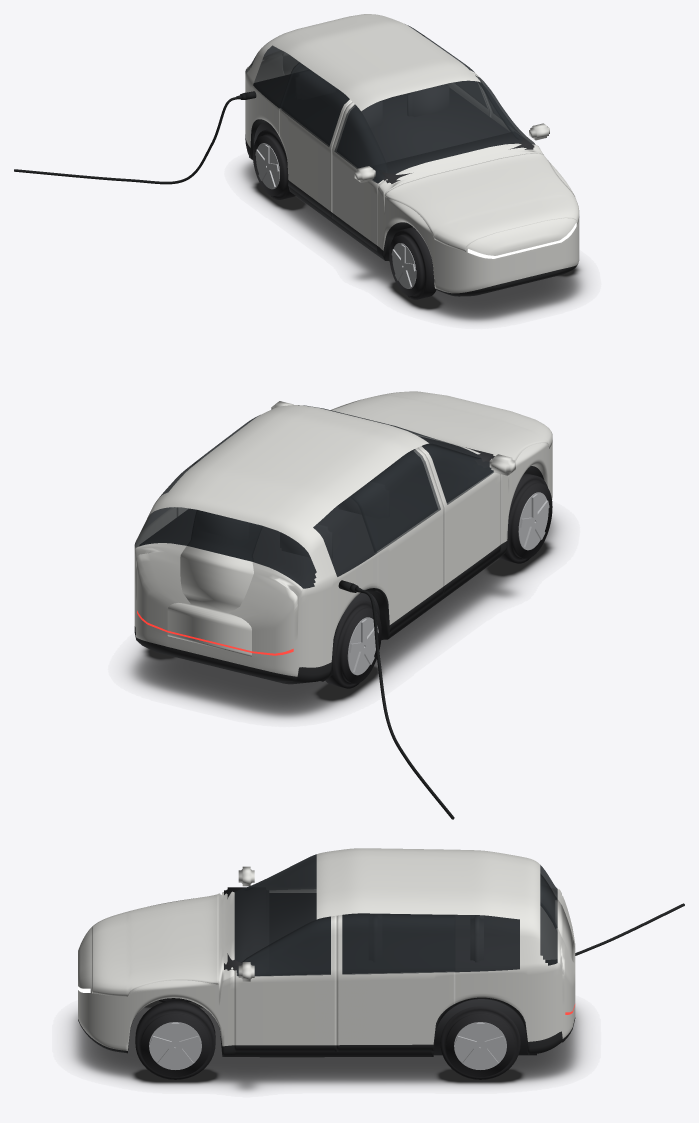
The model's file is car_crossover.glb.
3 views of the same model, one above another, from view 1: azimuth 30°, elevation 25°; view 2: azimuth 150°, elevation 25°; view 3: azimuth 270°, elevation 25° (orthographic). The views are drawn at different scales.
Parts seen in each view (by area): view 1: body, hood, ground_shadow, interior, door_rr, door_fr, wheels, charge_cable, door_rl, door_fl; view 2: body, ground_shadow, door_rr, tailgate, hood, door_fr, interior, wheels, charge_cable; view 3: body, door_rl, ground_shadow, door_fl, hood, wheels, interior, door_fr, tailgate, charge_cable.
Boxes of the visible parts, <box> form: body: <box>245,14,579,296</box>; hood: <box>385,153,579,251</box>; ground_shadow: <box>239,160,585,322</box>; interior: <box>249,74,534,183</box>; door_rr: <box>279,62,352,217</box>; door_fr: <box>331,102,387,251</box>; wheels: <box>253,129,436,299</box>; charge_cable: <box>14,91,256,184</box>; door_rl: <box>419,33,490,116</box>; door_fl: <box>473,73,535,144</box>; body: <box>134,401,552,684</box>; ground_shadow: <box>127,514,560,718</box>; door_rr: <box>350,447,444,632</box>; tailgate: <box>167,510,262,656</box>; hood: <box>330,391,552,461</box>; door_fr: <box>418,443,500,592</box>; interior: <box>139,436,494,681</box>; wheels: <box>325,473,552,688</box>; charge_cable: <box>338,580,454,819</box>; body: <box>78,848,575,1057</box>; door_rl: <box>336,913,455,1051</box>; ground_shadow: <box>69,1000,583,1091</box>; door_fl: <box>234,915,336,1051</box>; hood: <box>92,894,218,996</box>; wheels: <box>135,998,520,1079</box>; interior: <box>224,887,536,1055</box>; door_fr: <box>242,855,316,892</box>; tailgate: <box>540,873,575,963</box>; charge_cable: <box>575,903,684,955</box>.
Size of the model in its own units: 4.25 by 1.62 by 5.94.
Materials: 11 (1 with a texture image).
